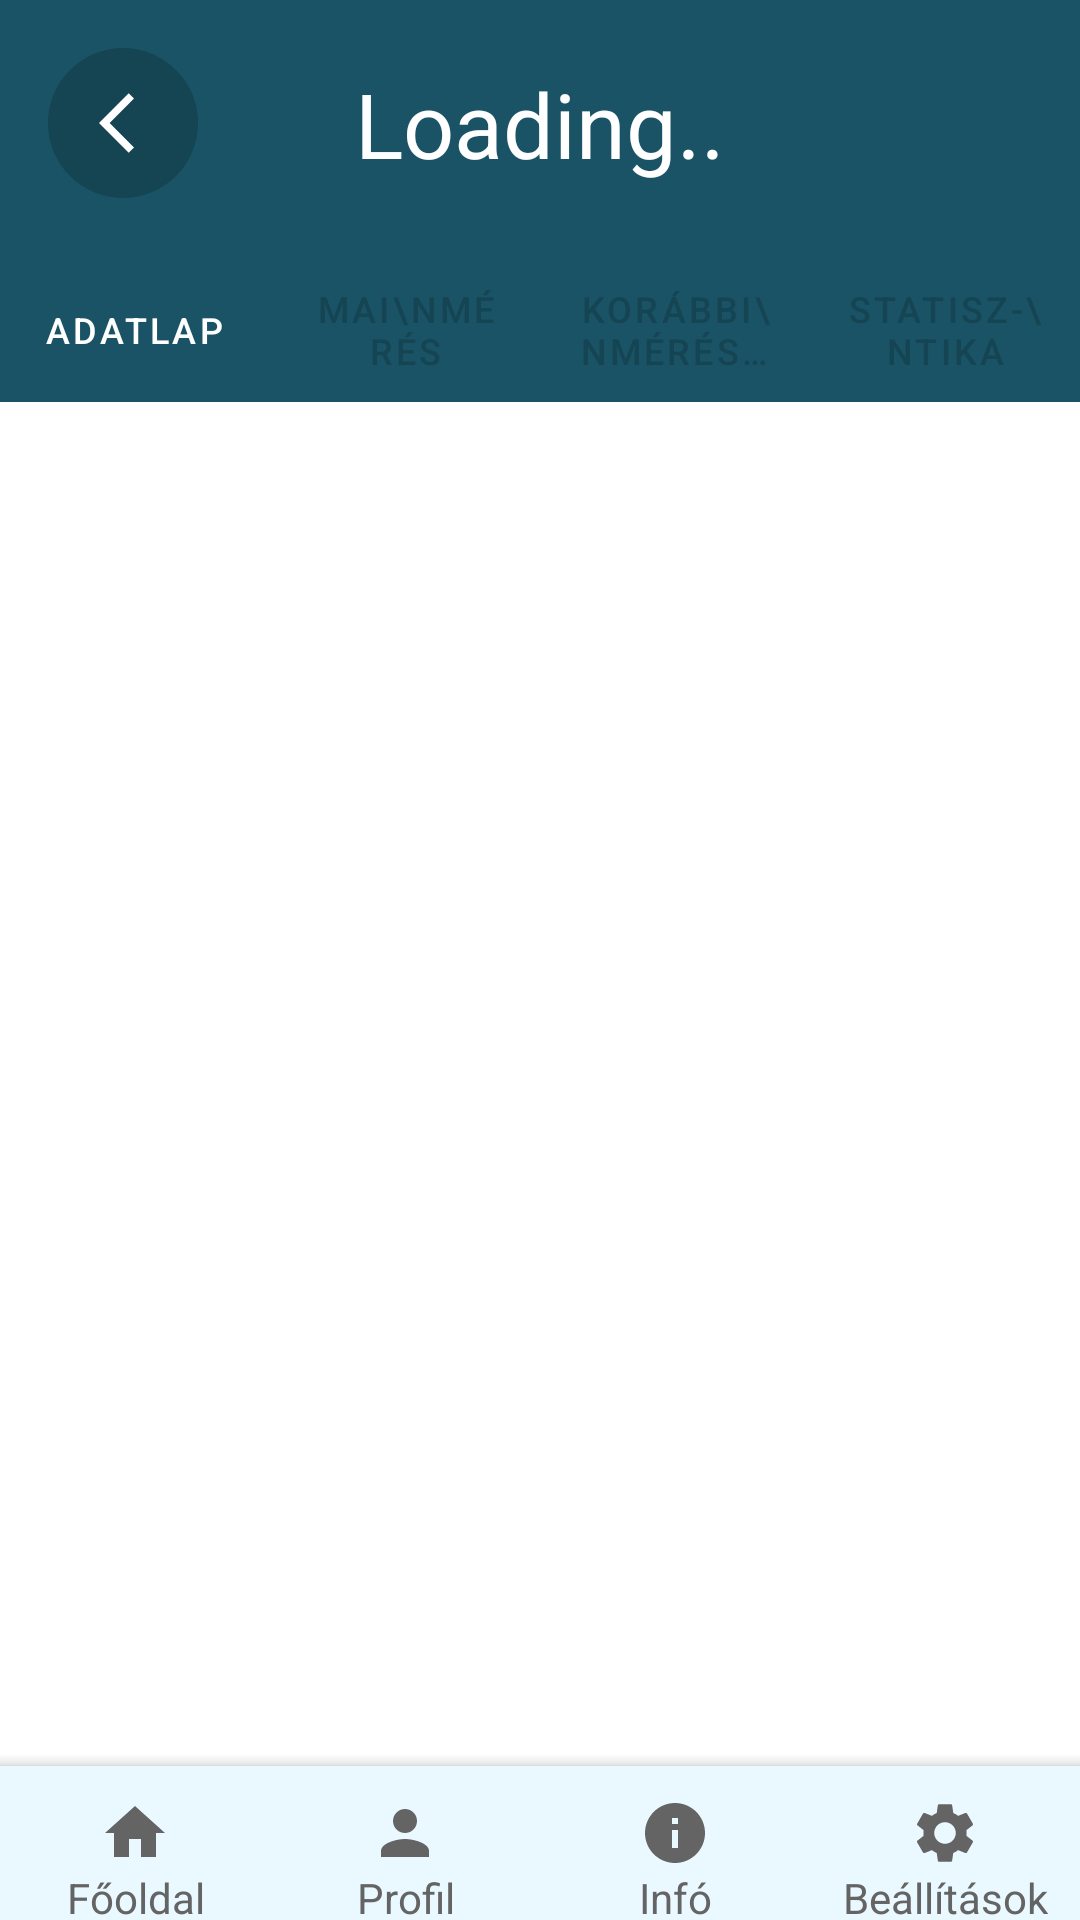

Icons on this 1080×1920 Android screen, each with its box as (x1=x1, y1=y1, x2=x2, y2=y2):
back: (x1=99, y1=93, x2=134, y2=153)
